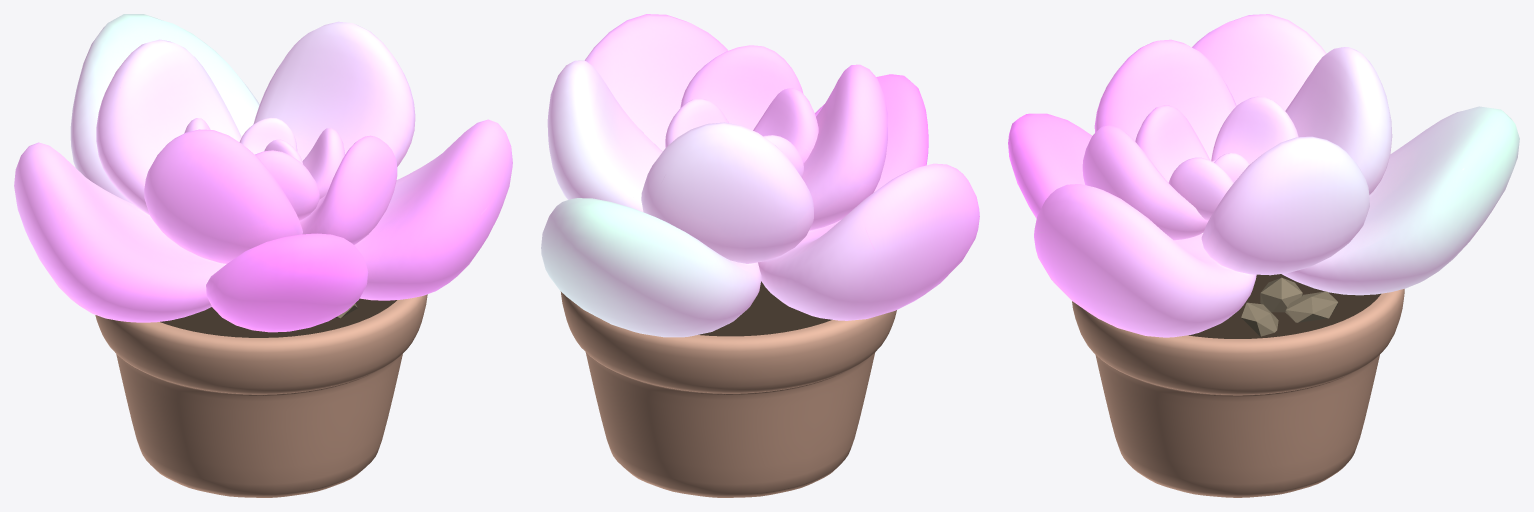
File: succulent.glb
3 renders of one model, left to right at view 1: azimuth 30°, elevation 25°; view 2: azimuth 150°, elevation 25°; view 3: azimuth 270°, elevation 25°, orthographic.
Parts seen in each view (by area): view 1: Cube.001_Material_0.001, Cylinder_Material.001_0.001, Cylinder.001_Material.003_0.001; view 2: Cube.001_Material_0.001, Cylinder_Material.001_0.001, Cylinder.001_Material.003_0.001; view 3: Cube.001_Material_0.001, Cylinder_Material.001_0.001, Cylinder.001_Material.003_0.001, Icosphere.002_Material.004_0.001, Icosphere_Material.004_0.001, Icosphere.001_Material.004_0.001.
Boxes of the visible parts, x1=… form: Cube.001_Material_0.001: x1=14, y1=14, x2=512, y2=332; Cylinder_Material.001_0.001: x1=95, y1=294, x2=427, y2=497; Cylinder.001_Material.003_0.001: x1=160, y1=298, x2=396, y2=337; Cube.001_Material_0.001: x1=541, y1=14, x2=979, y2=337; Cylinder_Material.001_0.001: x1=560, y1=291, x2=896, y2=497; Cylinder.001_Material.003_0.001: x1=698, y1=281, x2=832, y2=336; Cube.001_Material_0.001: x1=1008, y1=14, x2=1519, y2=337; Cylinder_Material.001_0.001: x1=1072, y1=289, x2=1404, y2=497; Cylinder.001_Material.003_0.001: x1=1188, y1=274, x2=1380, y2=338; Icosphere.002_Material.004_0.001: x1=1285, y1=291, x2=1338, y2=322; Icosphere_Material.004_0.001: x1=1260, y1=277, x2=1302, y2=312; Icosphere.001_Material.004_0.001: x1=1241, y1=302, x2=1278, y2=336.
Size of the model in its own units: 0.0753 by 0.0638 by 0.0786.
Materials: 4 (1 with a texture image).
